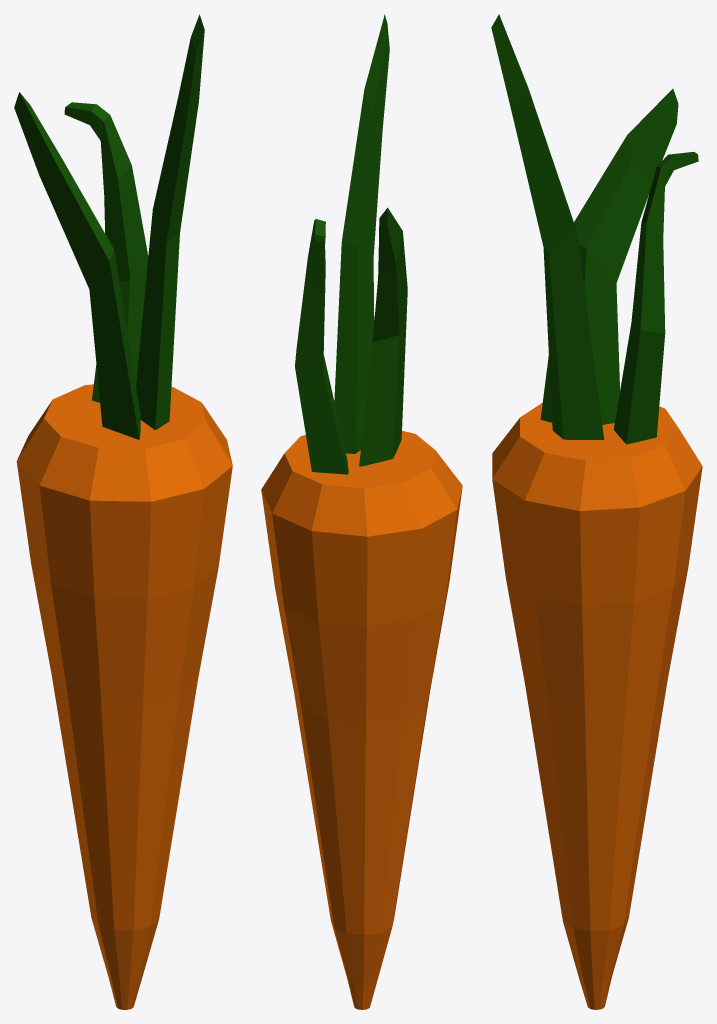
The model's file is CarrotNode.fbx.
The picture shows the model from 3 angles, left to right: view 1: azimuth 30°, elevation 25°; view 2: azimuth 150°, elevation 25°; view 3: azimuth 270°, elevation 25°; orthographic projection. The views are drawn at different scales.
Parts seen in each view (by area): view 1: Carrot, Stem; view 2: Carrot, Stem; view 3: Carrot, Stem.
Boxes of the visible parts, x1,y1,x2,y2 form: Carrot: (16, 384, 232, 1009); Stem: (14, 14, 204, 439); Carrot: (261, 430, 462, 1009); Stem: (295, 14, 407, 474); Carrot: (492, 403, 702, 1009); Stem: (491, 14, 698, 444).
Bounding box in the file's own units: 21.32 × 111 × 21.19.
